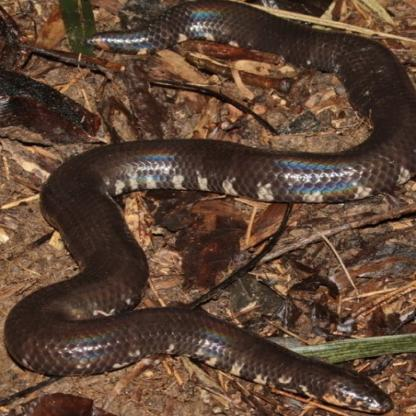snakes: (6, 281, 399, 404), (86, 2, 410, 67), (172, 129, 416, 202), (32, 138, 164, 271), (340, 74, 415, 126)
